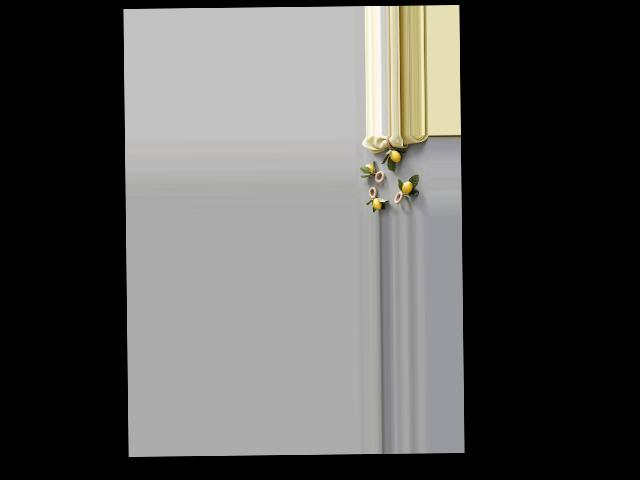lemon: (372, 196, 384, 213)
